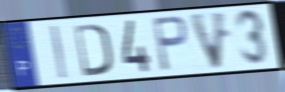3: (234, 7, 269, 69)
4: (121, 18, 152, 75)
D: (72, 22, 113, 79)
I: (49, 24, 68, 81)
P: (150, 14, 190, 73)
V: (187, 9, 229, 72)
